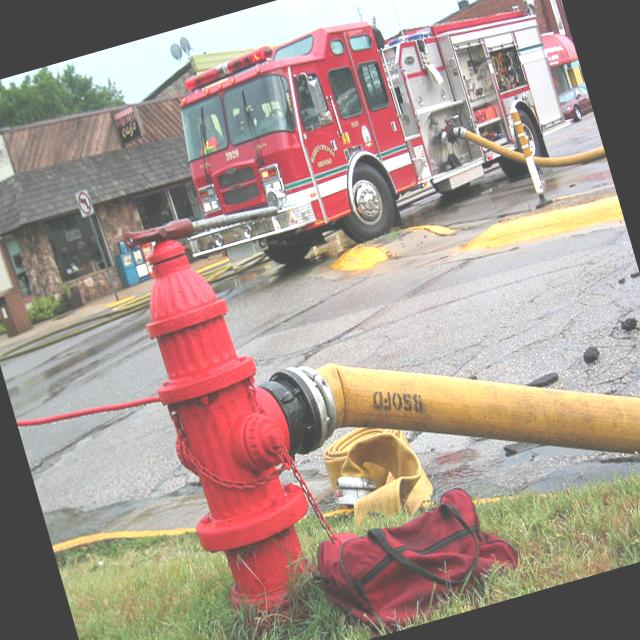Vehicle: (158, 0, 582, 275), (555, 83, 594, 124)
